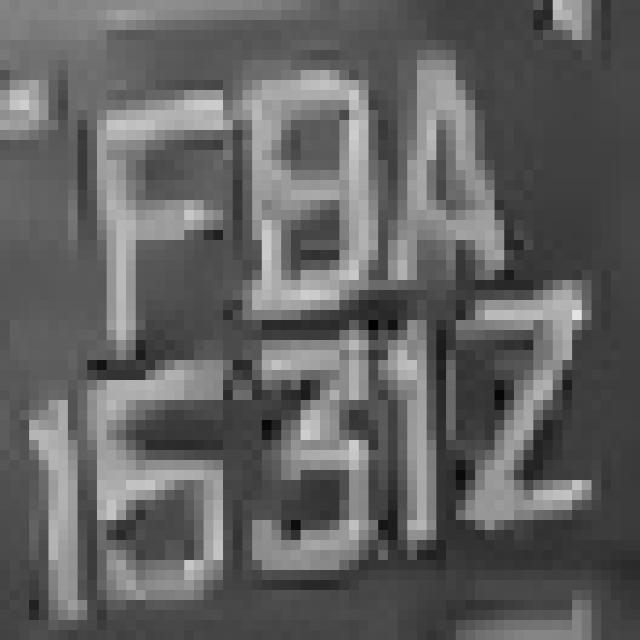1: (378, 300, 456, 550), (10, 390, 87, 630)
3: (204, 300, 398, 600)
5: (78, 350, 223, 630)
A: (368, 60, 534, 300)
B: (223, 50, 378, 310)
F: (58, 80, 233, 380)
Z: (446, 260, 592, 560)
